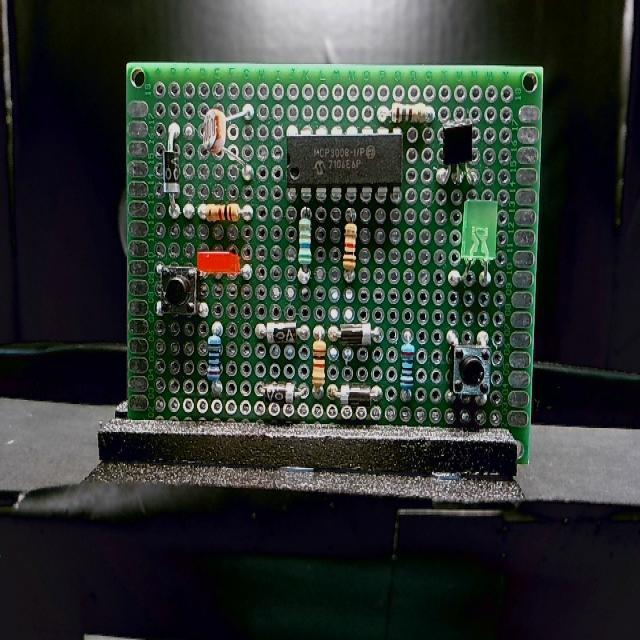IC: (285, 126, 404, 204)
cds: (202, 106, 234, 160)
diode: (162, 142, 182, 202), (260, 380, 304, 406), (336, 383, 377, 408), (263, 319, 301, 345), (338, 321, 377, 346)
led: (458, 197, 499, 272), (195, 250, 245, 277)
resistor: (389, 100, 434, 126), (296, 214, 314, 276), (199, 202, 250, 223), (310, 336, 327, 395), (206, 332, 223, 390), (399, 340, 416, 397), (343, 220, 358, 276)
switch: (448, 340, 492, 402), (158, 263, 200, 317)
transistor: (440, 115, 475, 176)
